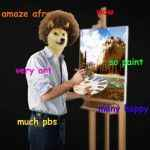doge: (48, 29, 68, 49)
